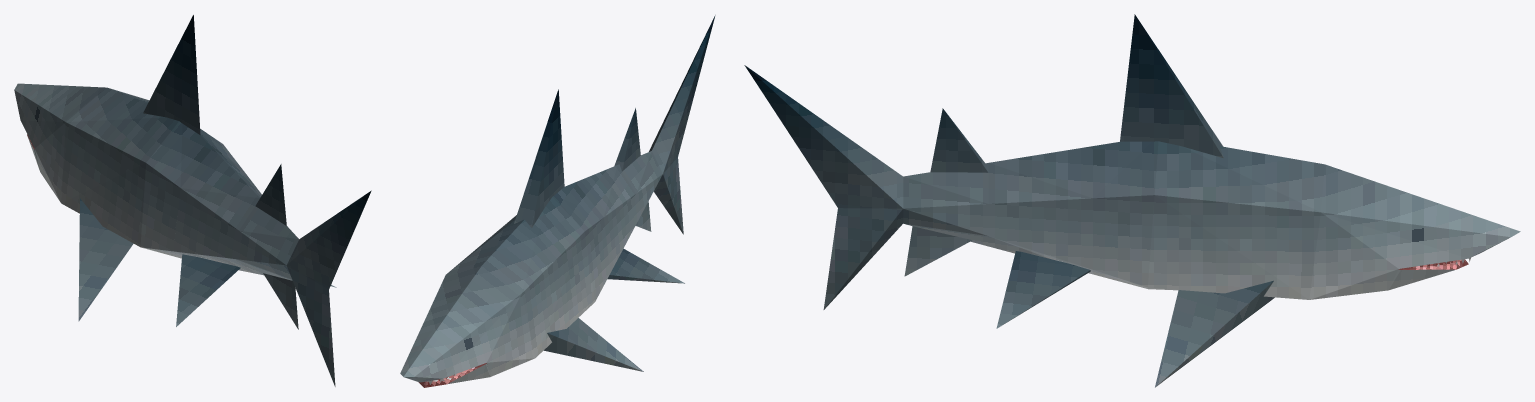
File: Shark_Bull_Shark_Bull.glb
3 views of the same model, side by side, from view 1: azimuth 30°, elevation 25°; view 2: azimuth 150°, elevation 25°; view 3: azimuth 270°, elevation 25° (orthographic). The views are drawn at different scales.
Visible parts, largest first — view 1: Body, Tail2, Tail1; view 2: Body, Tail2, Tail1, Jaw; view 3: Body, Tail2, Tail1, Jaw.
Part boxes in pixels (bbox=[...]): Body: bbox=[14, 15, 244, 321]; Tail2: bbox=[235, 164, 371, 386]; Tail1: bbox=[173, 148, 336, 326]; Body: bbox=[400, 89, 643, 384]; Tail2: bbox=[614, 15, 715, 234]; Tail1: bbox=[575, 165, 684, 283]; Jaw: bbox=[418, 363, 490, 387]; Body: bbox=[1093, 14, 1520, 387]; Tail2: bbox=[744, 65, 988, 309]; Tail1: bbox=[988, 146, 1093, 328]; Jaw: bbox=[1388, 259, 1468, 290].
Bounding box in the file's own units: 0.5296 × 0.6888 × 1.53.
Materials: 1 (1 with a texture image).
